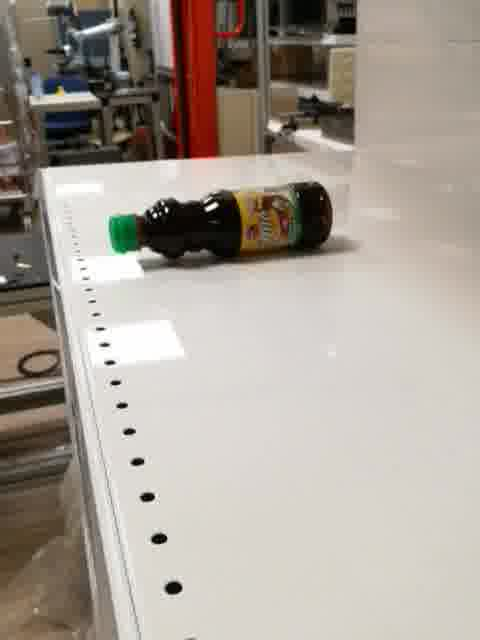cookingoil: (103, 180, 335, 264)
